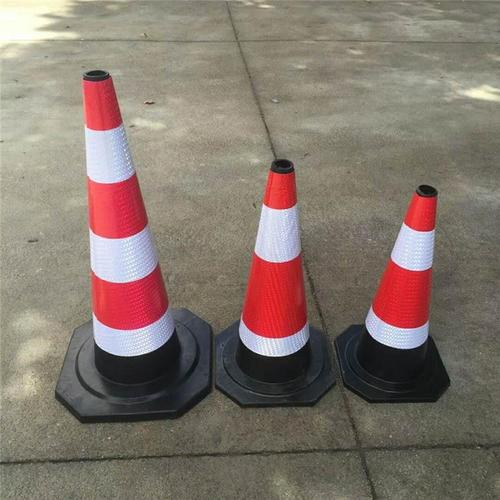cone_barrel: (70, 74, 190, 403), (227, 165, 323, 387), (349, 190, 450, 392)
